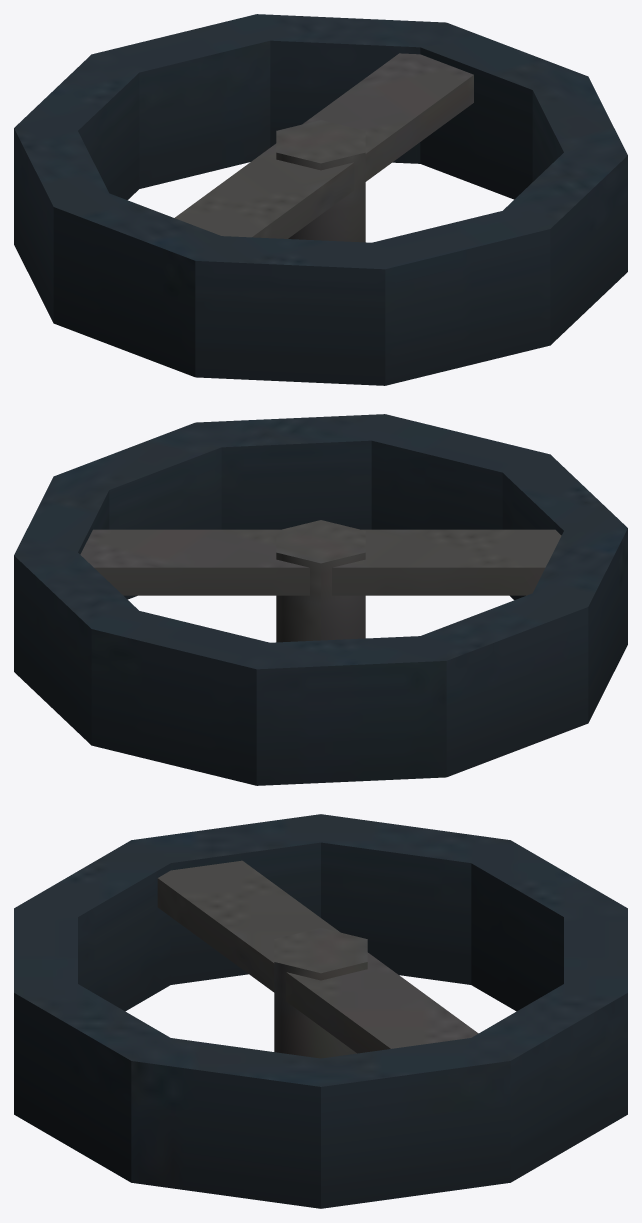
File: flying-robot-frame.glb
3 views of the same model, one above another, from view 1: azimuth 30°, elevation 25°; view 2: azimuth 150°, elevation 25°; view 3: azimuth 270°, elevation 25° (orthographic). The views are drawn at different scales.
Visible parts, largest first — view 1: flying-robot-frame; view 2: flying-robot-frame; view 3: flying-robot-frame.
Boxes of the visible parts, bbox=[...] form: flying-robot-frame: bbox=[14, 14, 627, 385]; flying-robot-frame: bbox=[14, 414, 627, 785]; flying-robot-frame: bbox=[14, 814, 627, 1208].
Bounding box in the file's own units: 0.24 × 0.05 × 0.2283.
Materials: 1 (1 with a texture image).
